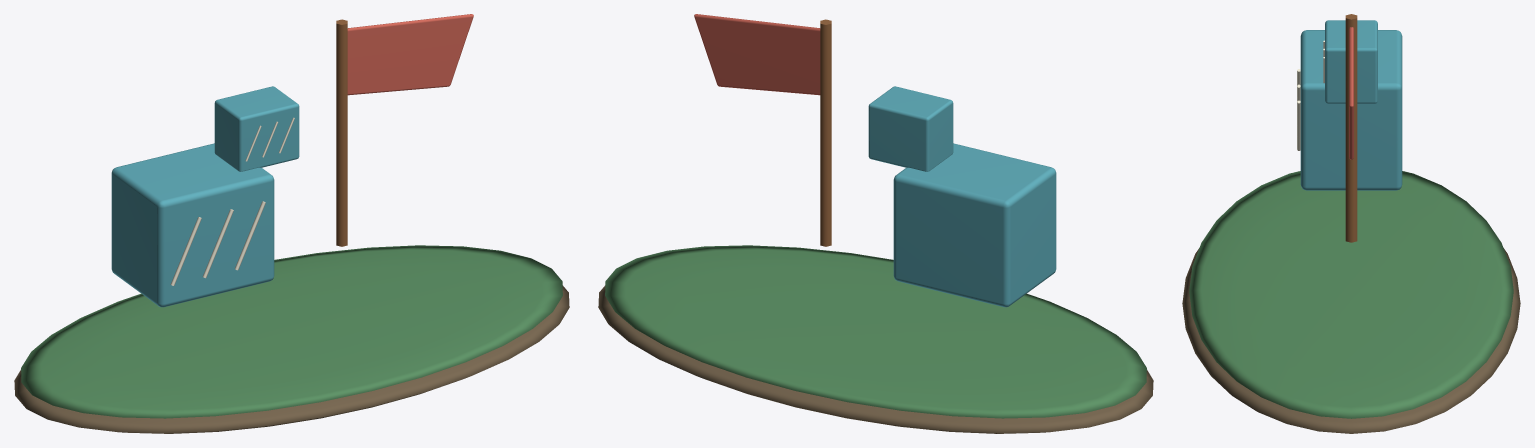
File: cold-order.glb
3 views of the same model, side by side, from view 1: azimuth 30°, elevation 25°; view 2: azimuth 150°, elevation 25°; view 3: azimuth 270°, elevation 25° (orthographic).
Visible parts, largest first — view 1: cold-order_surface_01, cold-order_surface_02, cold-order_surface_00, cold-order_surface_05, cold-order_surface_04, cold-order_surface_03; view 2: cold-order_surface_01, cold-order_surface_02, cold-order_surface_00, cold-order_surface_05, cold-order_surface_04; view 3: cold-order_surface_01, cold-order_surface_02, cold-order_surface_00, cold-order_surface_04, cold-order_surface_05, cold-order_surface_03.
Part boxes in pixels (x1,y1,x2,y2): cold-order_surface_01: (21, 245, 562, 418); cold-order_surface_02: (111, 86, 299, 307); cold-order_surface_00: (14, 285, 569, 433); cold-order_surface_05: (347, 14, 473, 95); cold-order_surface_04: (336, 19, 347, 246); cold-order_surface_03: (170, 117, 294, 285); cold-order_surface_01: (605, 245, 1146, 418); cold-order_surface_02: (868, 86, 1056, 307); cold-order_surface_00: (598, 285, 1153, 433); cold-order_surface_05: (694, 14, 820, 95); cold-order_surface_04: (820, 19, 831, 246); cold-order_surface_01: (1189, 171, 1513, 418); cold-order_surface_02: (1300, 20, 1402, 190); cold-order_surface_00: (1182, 248, 1520, 433); cold-order_surface_04: (1345, 14, 1357, 242); cold-order_surface_05: (1349, 27, 1353, 159); cold-order_surface_03: (1297, 40, 1324, 150).
Size of the model in its own units: 4.56 by 2.67 by 2.5.
